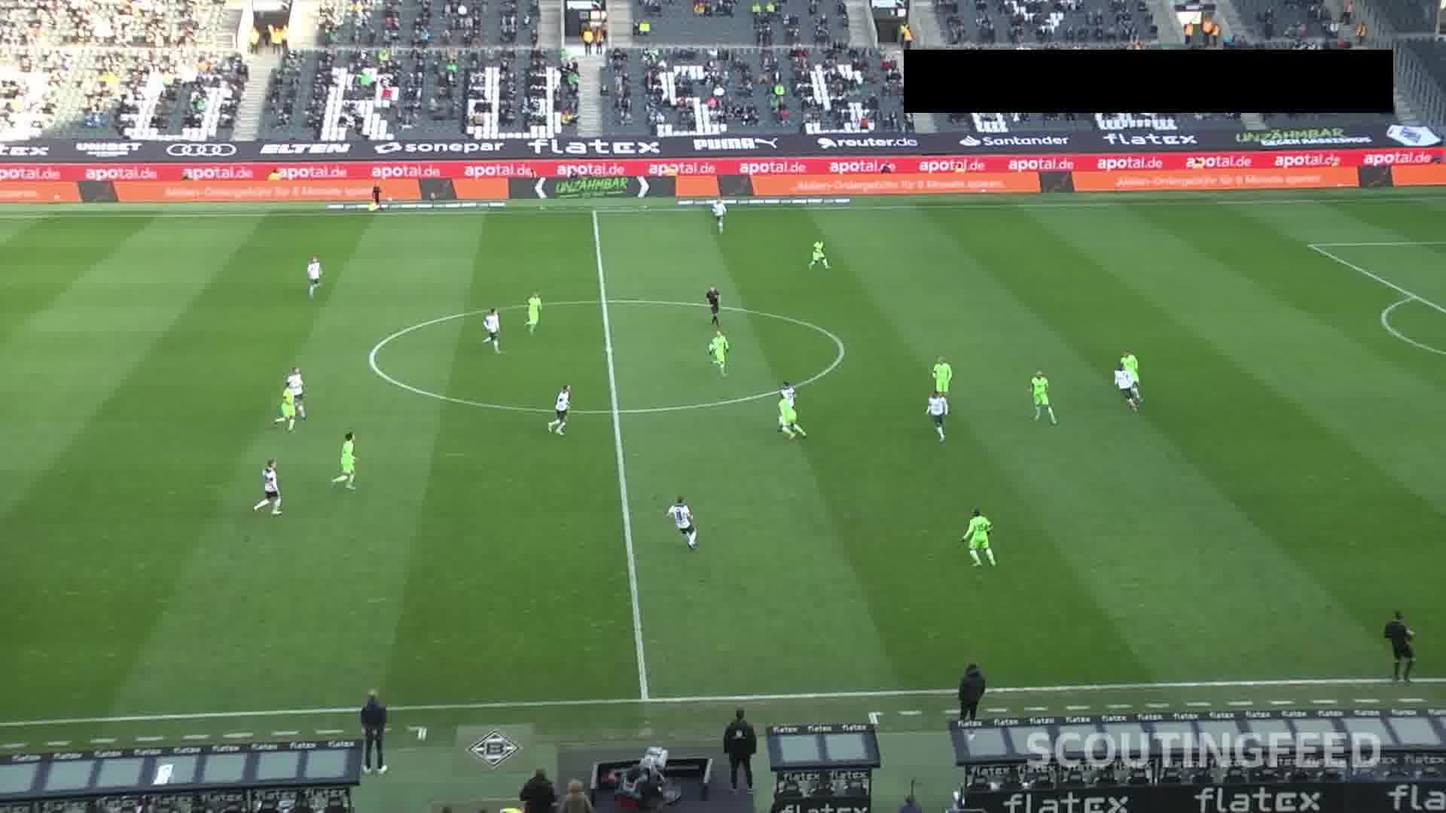coach_staff: (351, 680, 400, 782), (946, 665, 993, 749), (715, 710, 763, 790)
player: (536, 374, 584, 438), (1022, 371, 1064, 424), (961, 509, 999, 567), (664, 498, 707, 548), (329, 429, 363, 492), (705, 324, 741, 381), (257, 454, 286, 522), (923, 391, 960, 443), (1118, 343, 1152, 395), (926, 349, 956, 400), (285, 364, 313, 417), (779, 374, 813, 417), (299, 253, 330, 300), (478, 304, 507, 354), (800, 238, 832, 276), (523, 289, 549, 335), (777, 394, 800, 444), (1111, 365, 1136, 408), (279, 381, 300, 427), (709, 198, 734, 233)
referee: (1382, 610, 1422, 679), (699, 281, 726, 324), (369, 181, 385, 216)
